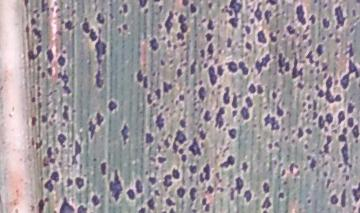tarspot: (315, 76, 341, 106), (340, 58, 359, 93), (109, 166, 123, 204), (226, 1, 244, 29), (174, 12, 188, 43), (252, 52, 272, 73), (93, 38, 108, 66), (275, 51, 291, 77), (69, 139, 83, 168), (333, 4, 347, 33), (172, 130, 187, 155), (291, 54, 304, 82), (340, 142, 352, 172), (294, 2, 308, 27), (262, 115, 280, 134), (216, 154, 237, 170), (27, 42, 43, 62), (93, 69, 107, 91), (57, 195, 74, 213), (59, 72, 71, 97), (164, 8, 174, 37), (214, 105, 225, 131), (135, 69, 149, 89), (253, 2, 264, 27), (189, 137, 202, 158), (255, 27, 268, 48), (95, 108, 106, 132), (207, 63, 218, 86), (221, 83, 231, 107), (233, 175, 246, 193), (351, 178, 360, 204), (119, 122, 130, 143), (238, 57, 249, 78), (61, 101, 71, 124), (324, 110, 336, 129), (225, 58, 239, 74), (62, 16, 75, 33), (143, 129, 155, 147), (175, 184, 187, 202), (205, 40, 215, 61), (162, 77, 173, 96), (154, 113, 165, 132), (201, 106, 212, 125), (196, 86, 207, 104), (259, 195, 273, 209), (161, 172, 173, 188), (86, 118, 96, 137), (80, 15, 90, 34), (216, 60, 225, 81), (74, 174, 85, 191), (148, 35, 159, 52), (188, 186, 198, 204), (189, 58, 198, 78), (230, 90, 239, 110), (315, 41, 325, 59), (323, 134, 332, 154), (90, 193, 101, 209), (44, 179, 55, 195), (227, 126, 238, 142), (275, 102, 286, 118), (305, 50, 316, 66), (45, 47, 55, 64), (238, 108, 252, 120), (107, 97, 118, 112), (171, 166, 182, 181), (30, 28, 45, 39), (134, 177, 143, 195), (57, 52, 66, 70), (247, 79, 256, 97), (36, 197, 46, 213), (240, 158, 250, 174), (255, 81, 265, 97), (339, 127, 349, 143), (308, 154, 316, 174), (242, 95, 254, 108), (144, 92, 155, 106), (320, 15, 331, 29), (204, 17, 215, 31), (242, 23, 253, 37), (336, 109, 345, 126), (261, 179, 271, 194), (308, 12, 318, 27), (99, 160, 108, 176), (65, 174, 73, 192), (243, 40, 255, 52), (50, 169, 61, 182), (164, 196, 175, 209), (295, 127, 306, 140), (329, 193, 340, 206), (155, 155, 168, 166), (56, 133, 66, 147), (265, 7, 272, 27), (348, 41, 355, 61), (75, 202, 87, 213), (205, 184, 216, 196), (198, 129, 209, 141), (96, 12, 106, 25), (176, 91, 186, 104), (146, 196, 156, 209), (188, 2, 198, 15), (346, 101, 354, 117), (188, 162, 197, 176), (268, 30, 277, 44), (126, 188, 136, 200), (154, 87, 162, 102), (317, 115, 325, 130), (201, 194, 208, 211), (243, 188, 252, 201), (270, 89, 279, 102), (136, 1, 149, 10), (351, 125, 359, 139), (178, 118, 188, 129), (203, 31, 214, 41), (277, 190, 286, 202), (286, 24, 295, 36), (121, 2, 129, 15), (179, 154, 189, 164), (120, 22, 130, 32), (29, 16, 38, 27), (175, 66, 184, 77), (137, 204, 148, 213), (30, 115, 37, 129), (146, 176, 158, 184), (346, 117, 355, 127), (305, 126, 313, 136), (46, 66, 54, 76), (181, 1, 191, 7)
